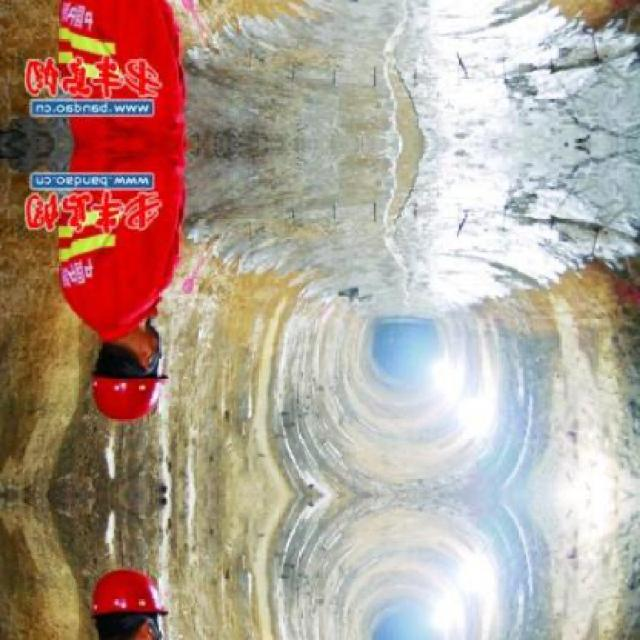con casco: (78, 370, 168, 432)
